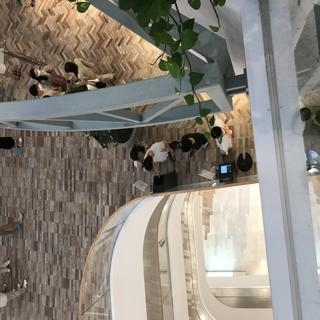person: (56, 54, 107, 86), (140, 141, 175, 178), (208, 115, 235, 150), (182, 126, 205, 163), (22, 84, 64, 101), (27, 66, 55, 82)
